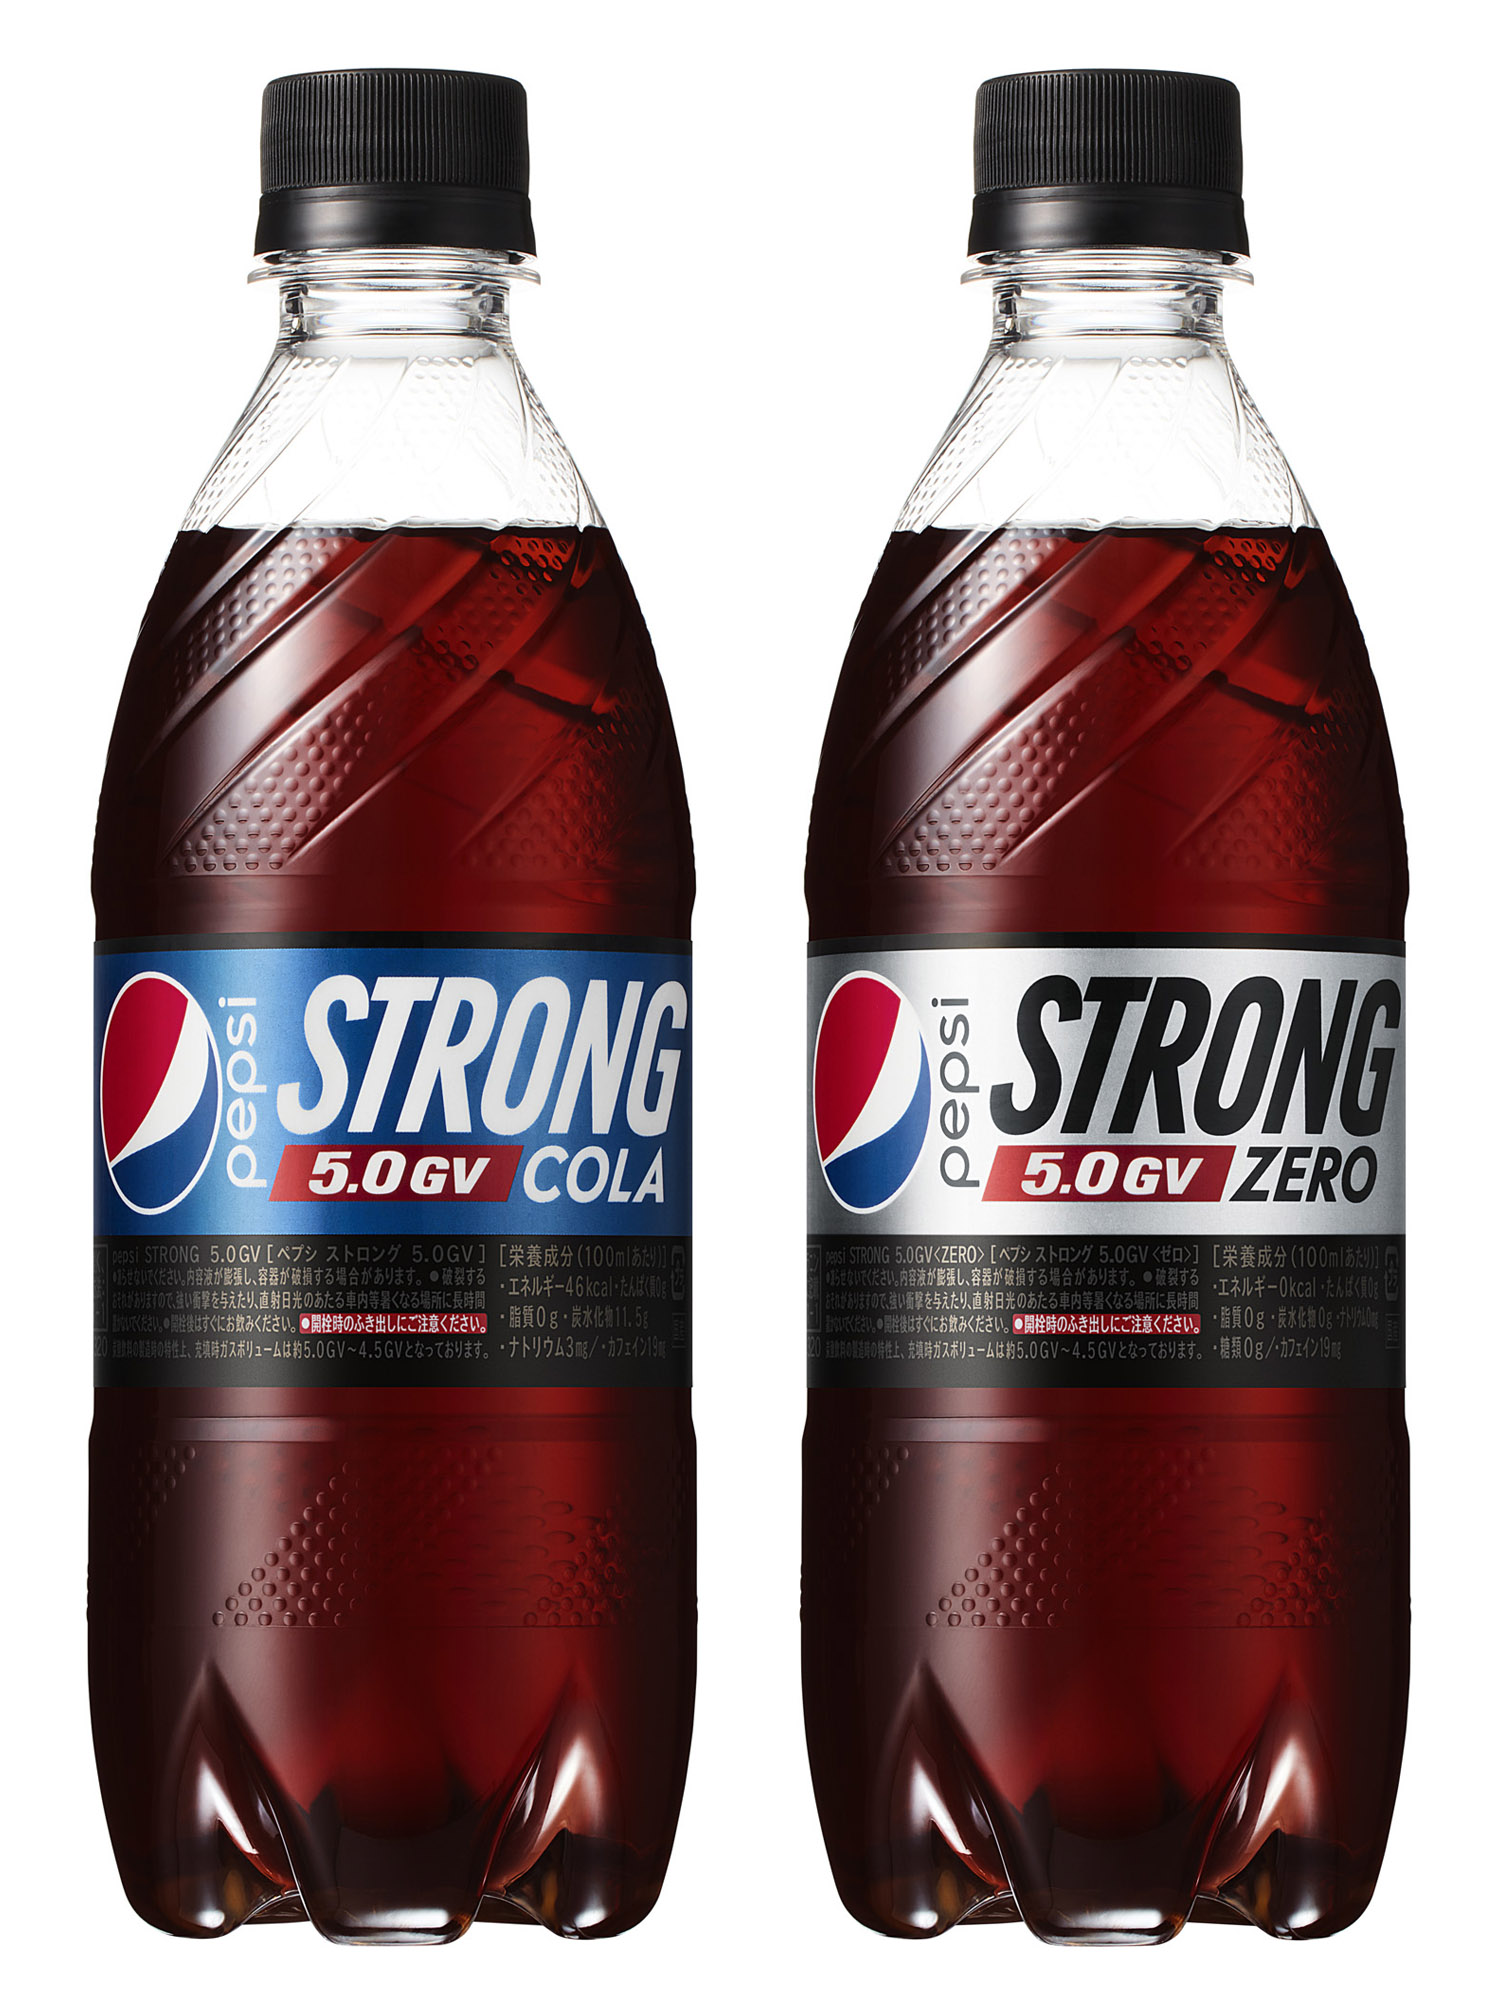pepsi: (87, 965, 225, 1220), (810, 969, 931, 1209), (818, 969, 931, 1209)
